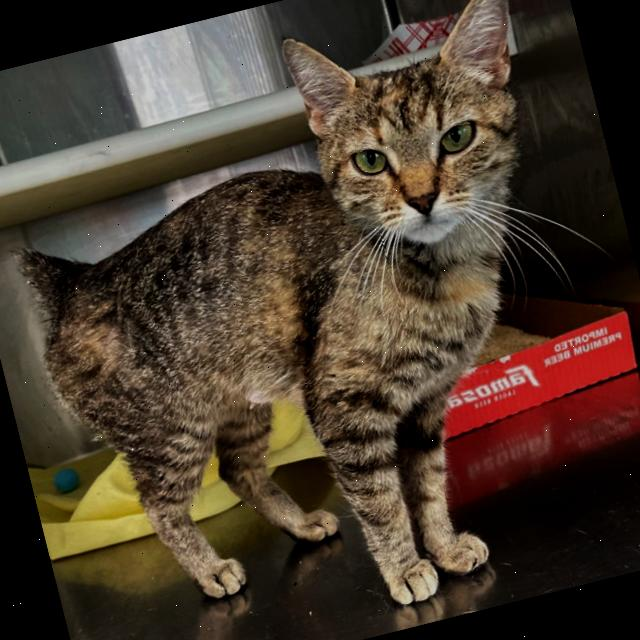manx_cat: (262, 0, 580, 295)
